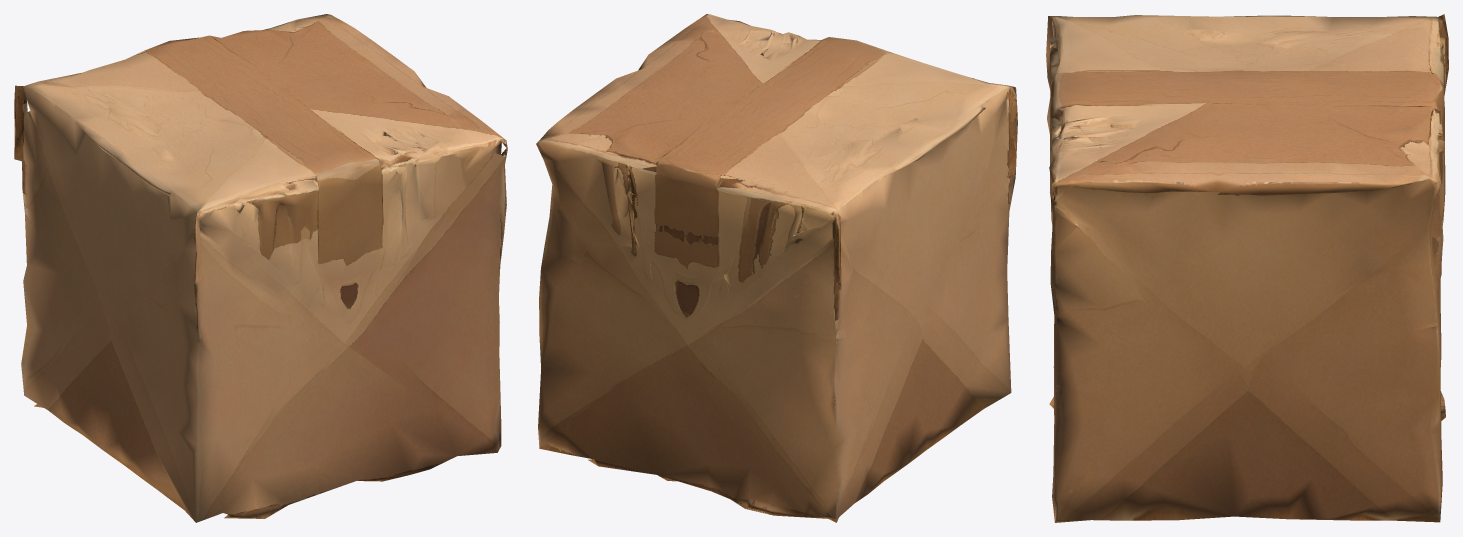
Rendered from P_DeliveryBox_h40.fbx.
The picture shows the model from 3 angles, left to right: view 1: azimuth 30°, elevation 25°; view 2: azimuth 150°, elevation 25°; view 3: azimuth 270°, elevation 25°; orthographic projection. The views are drawn at different scales.
Visible parts, largest first — view 1: texture_mapping; view 2: texture_mapping; view 3: texture_mapping.
Part boxes in pixels (x1=…): texture_mapping: x1=14, y1=14, x2=507, y2=522; texture_mapping: x1=536, y1=14, x2=1017, y2=522; texture_mapping: x1=1046, y1=14, x2=1448, y2=522.
Size of the model in its own units: 0.9844 by 0.9878 by 0.9889.
Materials: 1 (1 with a texture image).
